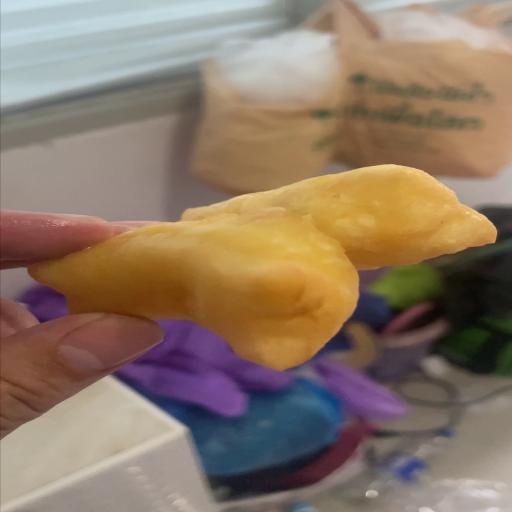street_golden_good: (28, 165, 496, 369)
